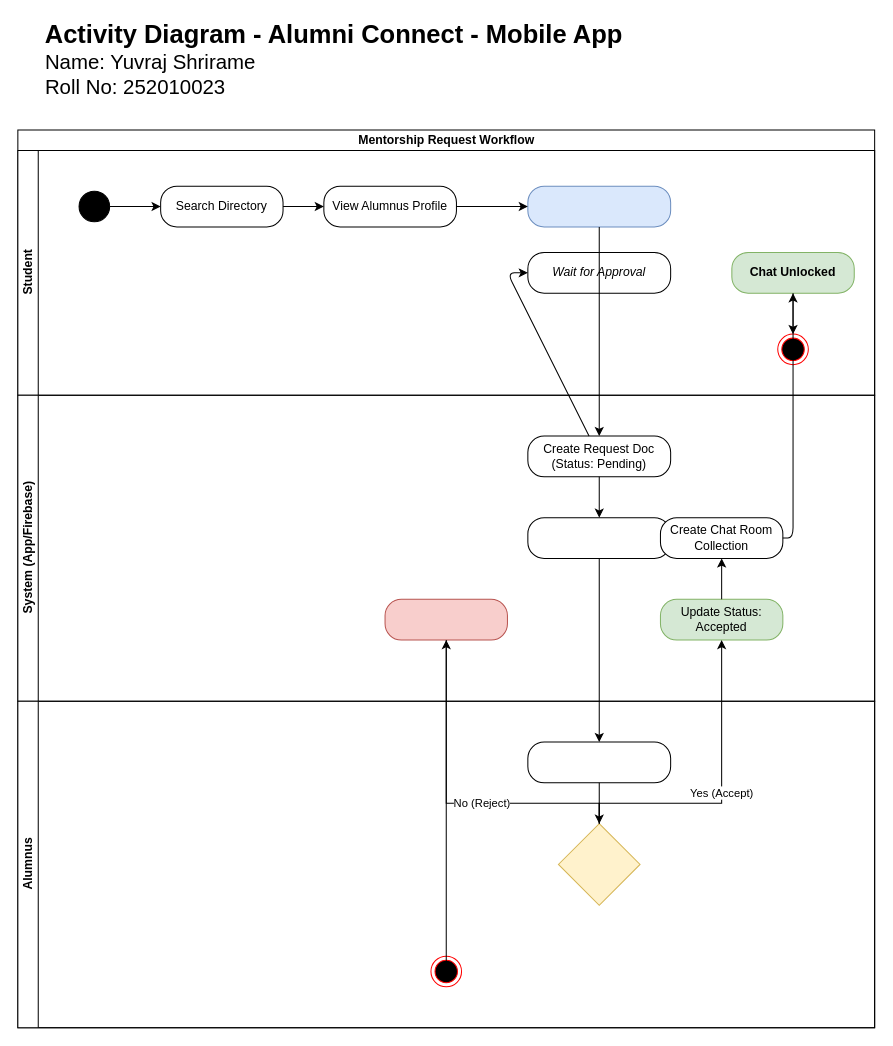
The diagram is 893 pixels wide and 1046 high, and some of its shapes have lost their labels. Each missing label, with the centre of its shape:
Accept?: (598,864)
Push Notification to Alumnus: (599,537)
Review Request: (599,762)
Send Connect Request: (599,206)
Update Status: Rejected: (445,619)
